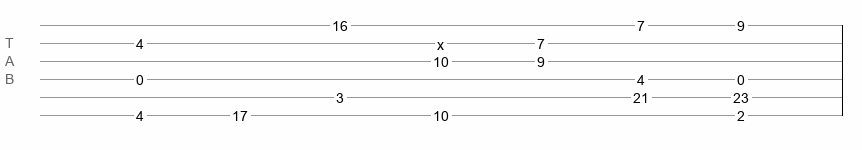0: (136, 72, 144, 82), (737, 72, 745, 82)
10: (433, 54, 449, 64), (433, 108, 449, 118)
16: (332, 18, 348, 28)
17: (232, 108, 248, 118)
2: (737, 108, 745, 118)
21: (633, 90, 649, 100)
23: (733, 90, 749, 100)
3: (336, 90, 344, 100)
4: (136, 36, 144, 46), (136, 108, 144, 118), (637, 72, 645, 82)
7: (537, 36, 545, 46), (637, 18, 645, 28)
9: (537, 54, 545, 64), (737, 18, 745, 28)
x: (437, 37, 444, 45)
